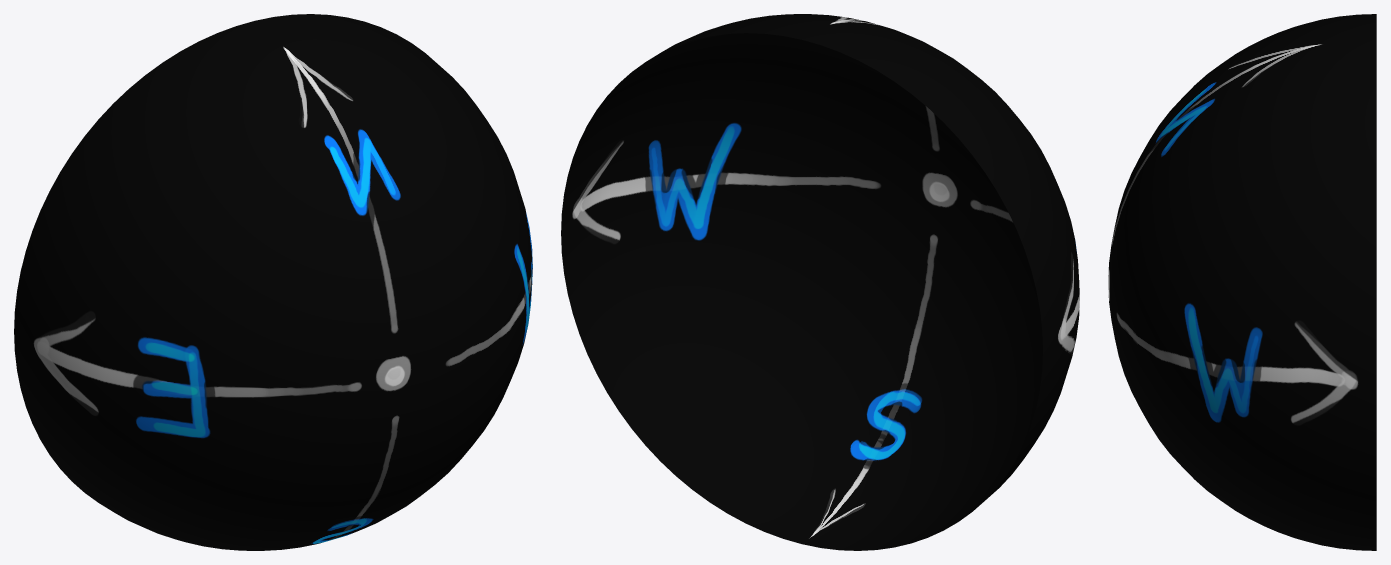
The model's file is flipped_180_1600poly.fbx.
The picture shows the model from 3 angles, left to right: view 1: azimuth 30°, elevation 25°; view 2: azimuth 150°, elevation 25°; view 3: azimuth 270°, elevation 25°; orthographic projection. The views are drawn at different scales.
Visible parts, largest first — view 1: pSphere1; view 2: pSphere1; view 3: pSphere1.
Boxes of the visible parts, bbox=[...] form: pSphere1: bbox=[14, 14, 532, 550]; pSphere1: bbox=[561, 14, 1079, 550]; pSphere1: bbox=[1108, 14, 1376, 550].
Bounding box in the file's own units: 12 × 12 × 6.
Materials: 1 (1 with a texture image).
